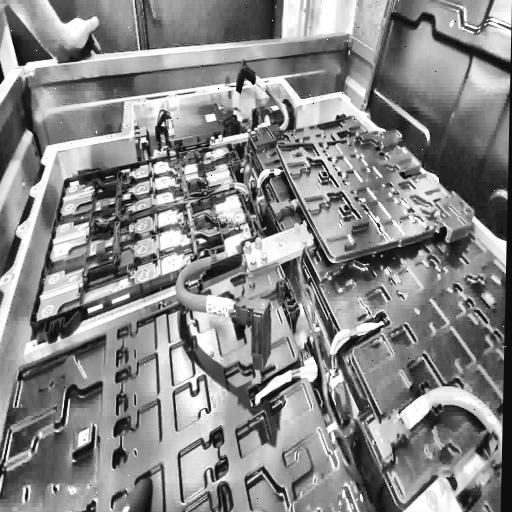b_casing: (273, 123, 475, 262)
battery_module: (364, 376, 503, 512)
high_volt_cable: (171, 240, 288, 380), (231, 60, 291, 138)
low_volt_cable: (245, 312, 388, 410)
nut: (248, 254, 257, 270), (260, 250, 268, 264), (301, 232, 308, 246), (254, 237, 262, 249), (244, 240, 252, 252), (293, 222, 301, 233), (308, 230, 315, 242), (302, 220, 309, 228)
